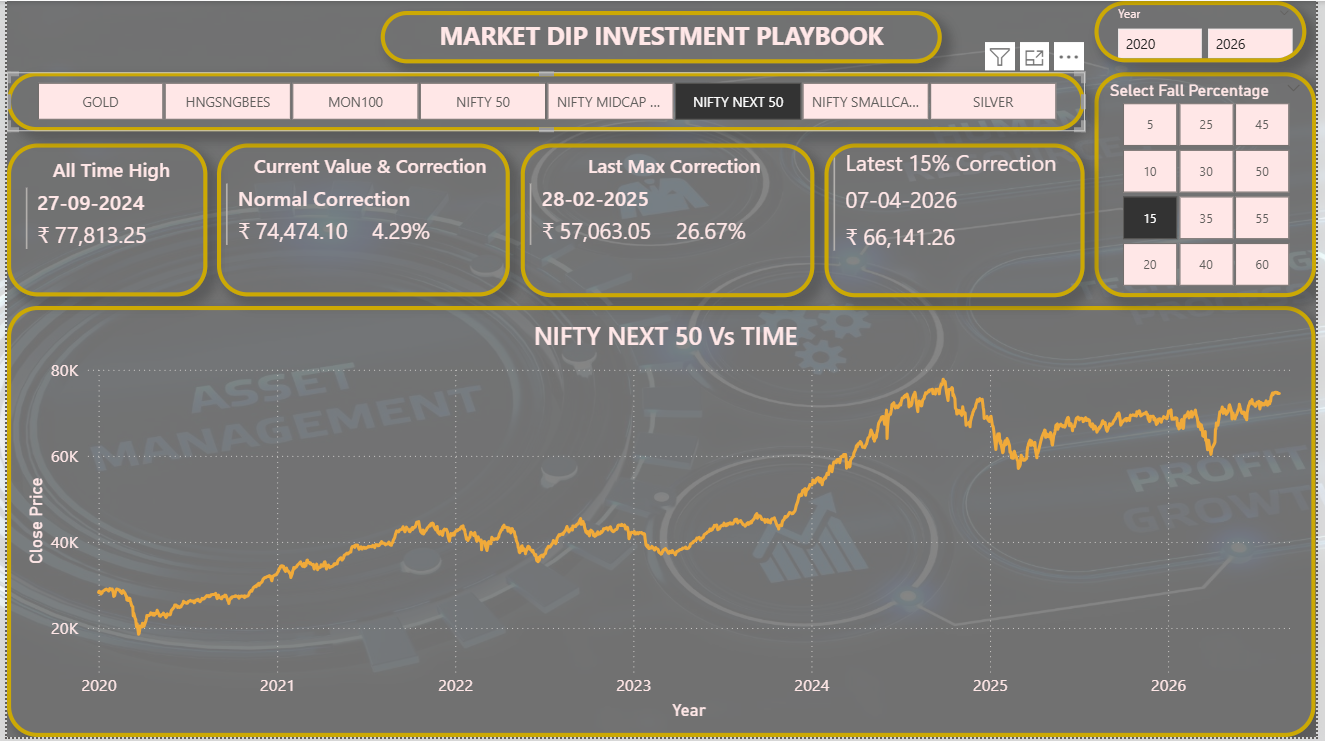

What the dashboard file says about the page in this screenshot:
{"tool":"powerbi","page":{"name":"Dashboard","canvas":[1280,720],"ordinal":0},"visuals":[{"type":"slicer","fields":{"Values":["Commodities.Asset Class"]},"box":[0,69.7,1054.1,57.5],"z":0},{"type":"multiRowCard","title":"All Time High","fields":{"Values":["Combine Data.Dt ATH","Combine Data.ATH"]},"box":[0,140,196.2,149.6],"z":1000},{"type":"multiRowCard","title":"Current Value & Correction","fields":{"Values":["Combine Data.Current Value","Combine Data.Current Correction","Combine Data.Play Book"]},"box":[205.8,140,286.8,149.6],"z":2000},{"type":"multiRowCard","title":"Last Max Correction","fields":{"Values":["Combine Data.dt max correction","Combine Data.Max correction","Combine Data.Max correction(%)"]},"box":[502.4,139.4,287.4,150.4],"z":3000},{"type":"lineChart","fields":{"Category":["Combine Data.DATE.Variation.Date Hierarchy.Year","Combine Data.DATE.Variation.Date Hierarchy.Quarter","Combine Data.DATE.Variation.Date Hierarchy.Month","Combine Data.DATE.Variation.Date Hierarchy.Day"],"Y":["Sum(Combine Data.ADJ. PRICE)"]},"box":[0,298.4,1280.3,421.9],"z":4000},{"type":"slicer","fields":{"Values":["Fall Percentage.Fall Percentage"]},"box":[1063.9,69.7,216.4,220.1],"z":5000},{"type":"multiRowCard","title":"Latest Correction","fields":{"Values":["Fall Percentage.Header","Combine Data.Date of Fall","Combine Data.Fall Value"]},"box":[799.5,139.4,254.3,150.4],"z":6000},{"type":"textbox","box":[365.5,9.8,549.1,51.4],"z":7000},{"type":"slicer","fields":{"Values":["Combine Data.DATE.Variation.Date Hierarchy.Year"]},"box":[1063.5,0,207.2,60.4],"z":8000}]}

Visuals, with their boxes in screenshot pixels (x1, y1, x2, y2), scaled from the page's 1280x720 canvas onto the 1325x741 screenshot:
slicer - Commodities.Asset Class: <box>0,72,1091,131</box>
"All Time High" multiRowCard: <box>0,144,203,298</box>
"Current Value & Correction" multiRowCard: <box>213,144,510,298</box>
"Last Max Correction" multiRowCard: <box>520,143,818,298</box>
lineChart - Combine Data.DATE.Variation.Date Hierarchy.Year x Combine Data.DATE.Variation.Date Hierarchy.Quarter: <box>0,307,1324,740</box>
slicer - Fall Percentage.Fall Percentage: <box>1101,72,1324,298</box>
"Latest Correction" multiRowCard: <box>828,143,1091,298</box>
textbox: <box>378,10,947,63</box>
slicer - Combine Data.DATE.Variation.Date Hierarchy.Year: <box>1101,0,1315,62</box>
